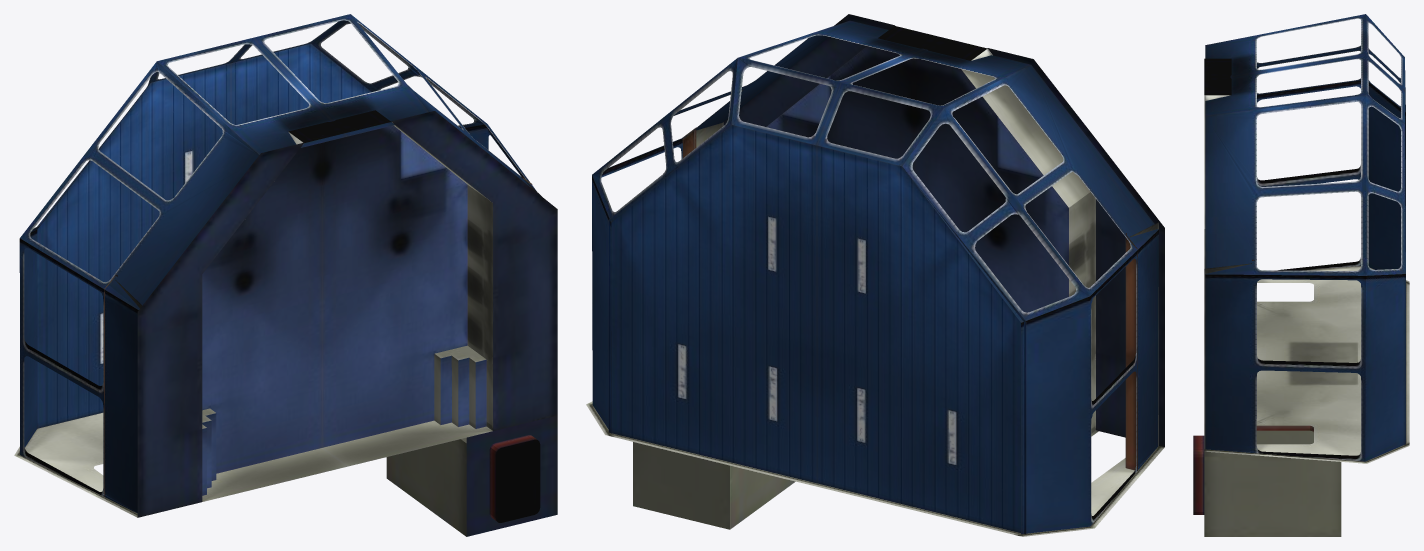
Rendered from cvfFrIlotArriereIMursIntPont4.fbx.
3 views of the same model, side by side, from view 1: azimuth 30°, elevation 25°; view 2: azimuth 150°, elevation 25°; view 3: azimuth 270°, elevation 25° (orthographic). The views are drawn at different scales.
Parts seen in each view (by area): view 1: ShapeIndexedFaceSet; view 2: ShapeIndexedFaceSet; view 3: ShapeIndexedFaceSet.
Part boxes in pixels (x1=…): ShapeIndexedFaceSet: x1=14, y1=14, x2=557, y2=536; ShapeIndexedFaceSet: x1=586, y1=14, x2=1164, y2=536; ShapeIndexedFaceSet: x1=1193, y1=14, x2=1409, y2=536.
Size of the model in its own units: 8.64 by 7.94 by 3.95.
